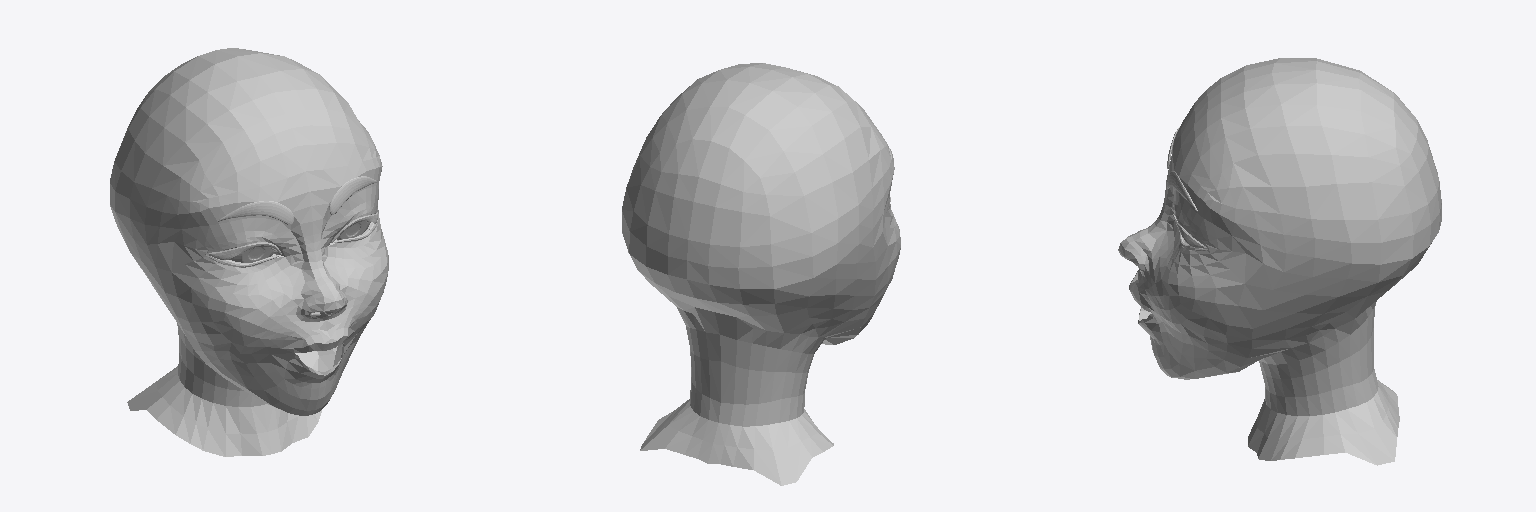
The picture shows the model from 3 angles: view 1: azimuth 30°, elevation 25°; view 2: azimuth 150°, elevation 25°; view 3: azimuth 270°, elevation 25°; orthographic projection.
Parts seen in each view (by area): view 1: i_body_Plane.014; view 2: i_body_Plane.014; view 3: i_body_Plane.014.
Boxes of the visible parts, x1,y1,x2,y2 form: i_body_Plane.014: [110, 48, 388, 456]; i_body_Plane.014: [622, 63, 900, 485]; i_body_Plane.014: [1118, 58, 1441, 465].
Bounding box in the file's own units: 0.7869 × 1.29 × 1.01.